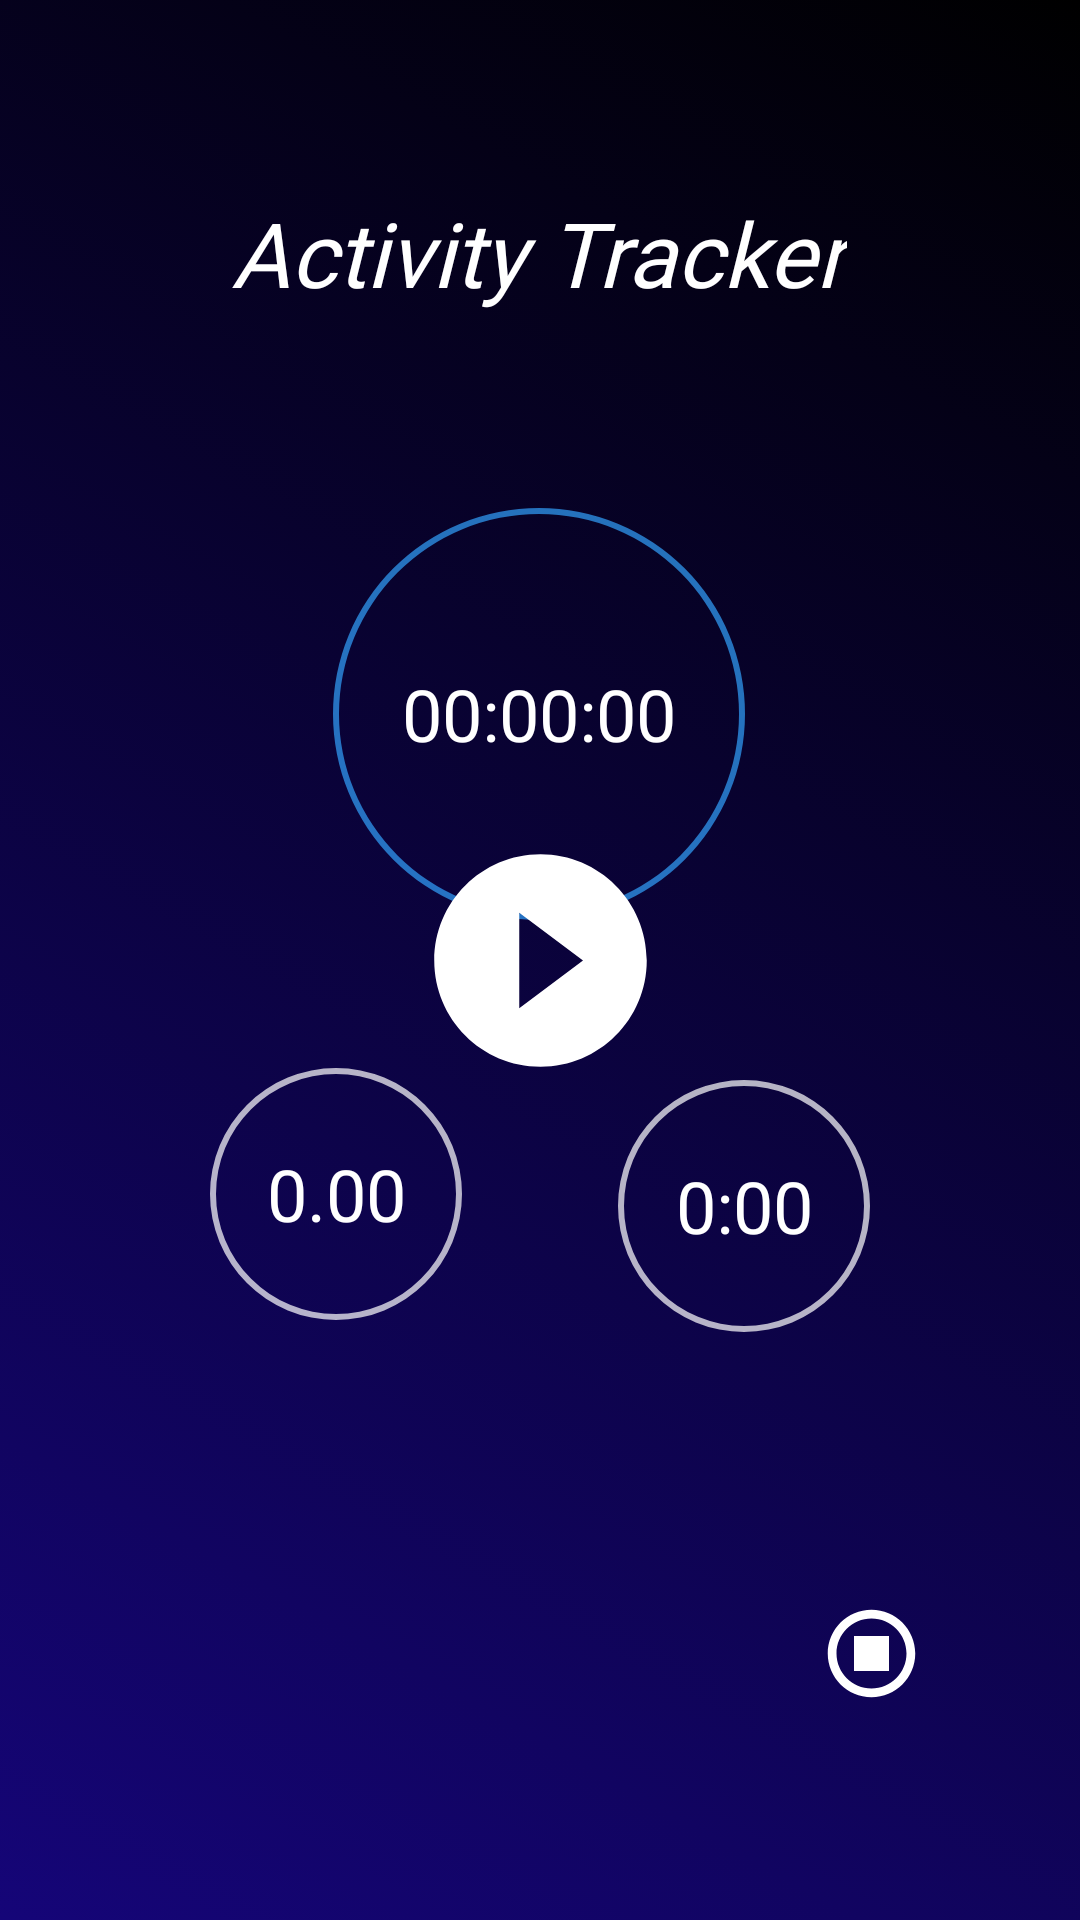

Named icons in this screenshot (1080x1920) and their centers, [x,y]:
stop circle: [871,1653]
